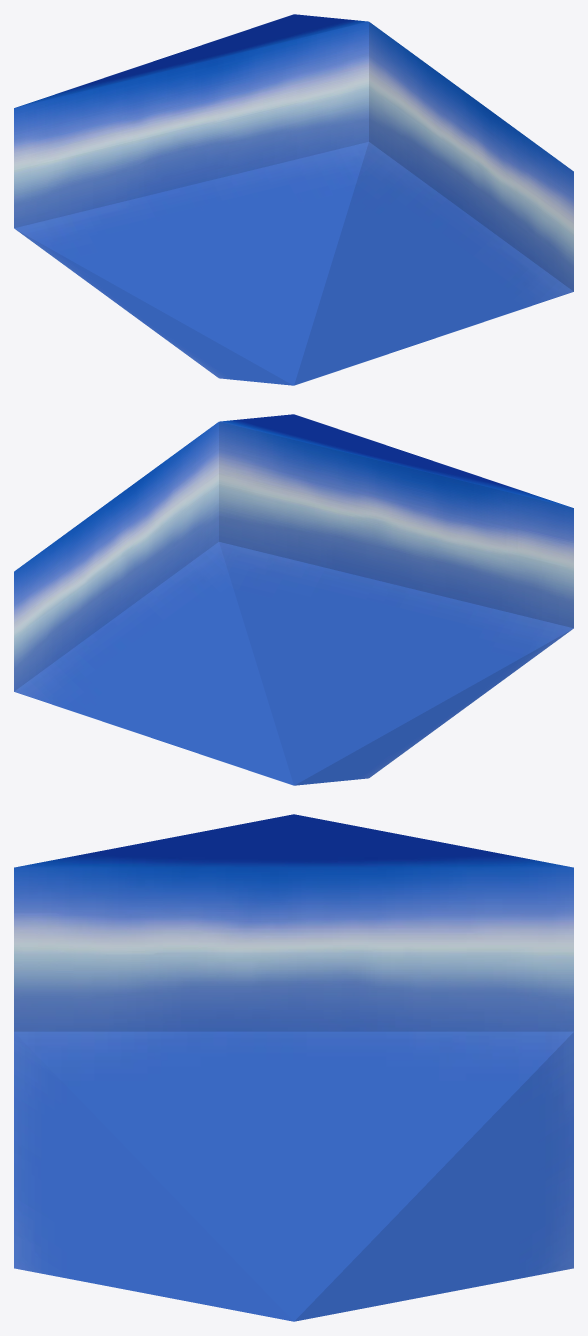
The model's file is sky_pirate.glb.
The picture shows the model from 3 angles, top to bottom: view 1: azimuth 30°, elevation 25°; view 2: azimuth 150°, elevation 25°; view 3: azimuth 270°, elevation 25°; orthographic projection. The views are drawn at different scales.
Parts seen in each view (by area): view 1: Cube; view 2: Cube; view 3: Cube.
Part boxes in pixels (box(x1,y1,x2,y2)): Cube: box(14, 14, 573, 385); Cube: box(14, 414, 573, 785); Cube: box(14, 814, 573, 1321).
Bounding box in the file's own units: 4.48 × 4.48 × 4.48.
1 material, 1 textured.
